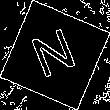N_S: (27, 24, 83, 86)
